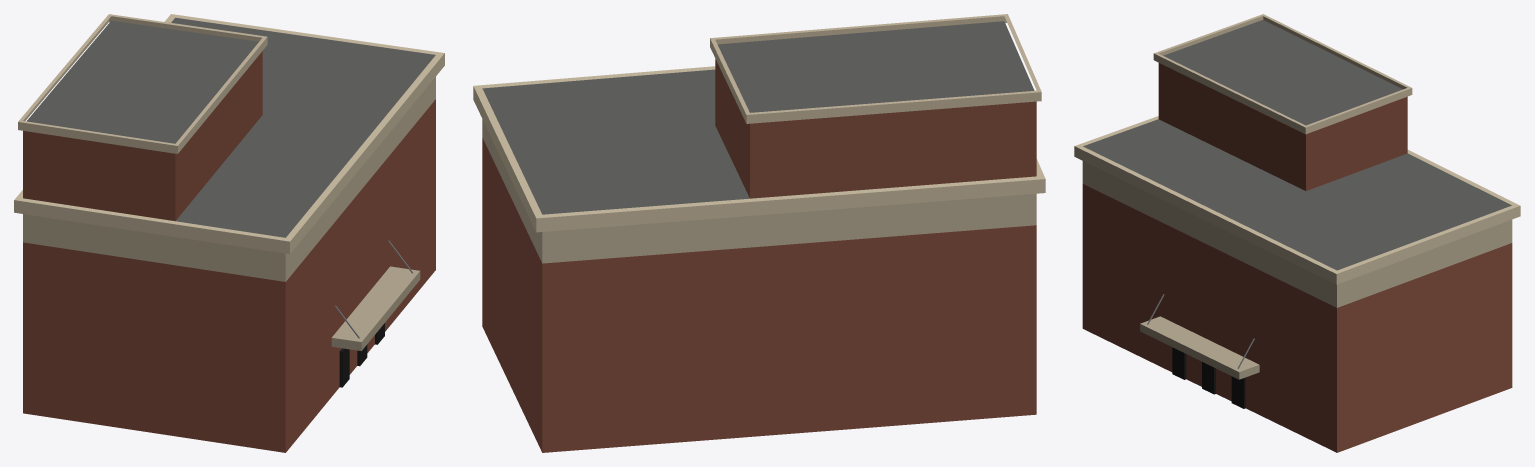
Rendered from rialto-center-for-the-arts.glb.
The picture shows the model from 3 angles, left to right: view 1: azimuth 30°, elevation 25°; view 2: azimuth 150°, elevation 25°; view 3: azimuth 270°, elevation 25°; orthographic projection. The views are drawn at different scales.
Visible parts, largest first — view 1: lod0_bld_wall, lod0_bld_roof, lod1_lm_stone, lod0_lm_stone, lod0_lm_metal, lod0_lm_dark; view 2: lod0_bld_wall, lod0_bld_roof, lod1_lm_stone, lod0_lm_stone; view 3: lod0_bld_wall, lod0_bld_roof, lod1_lm_stone, lod0_lm_stone, lod0_lm_dark, lod0_lm_metal.
Part boxes in pixels (bbox=[...]): lod0_bld_wall: bbox=[23, 51, 435, 452]; lod0_bld_roof: bbox=[171, 17, 435, 237]; lod1_lm_stone: bbox=[14, 18, 444, 341]; lod0_lm_stone: bbox=[14, 14, 444, 253]; lod0_lm_metal: bbox=[331, 240, 420, 350]; lod0_lm_dark: bbox=[339, 323, 384, 387]; lod0_bld_wall: bbox=[482, 59, 1036, 452]; lod0_bld_roof: bbox=[482, 69, 890, 214]; lod1_lm_stone: bbox=[473, 16, 1045, 232]; lod0_lm_stone: bbox=[473, 14, 1045, 232]; lod0_bld_wall: bbox=[1082, 63, 1512, 452]; lod0_bld_roof: bbox=[1083, 119, 1511, 270]; lod1_lm_stone: bbox=[1074, 16, 1520, 371]; lod0_lm_stone: bbox=[1074, 14, 1520, 284]; lod0_lm_dark: bbox=[1172, 347, 1245, 408]; lod0_lm_metal: bbox=[1140, 294, 1259, 379].
Bounding box in the file's own units: 55.08 × 32.5 × 52.97.
